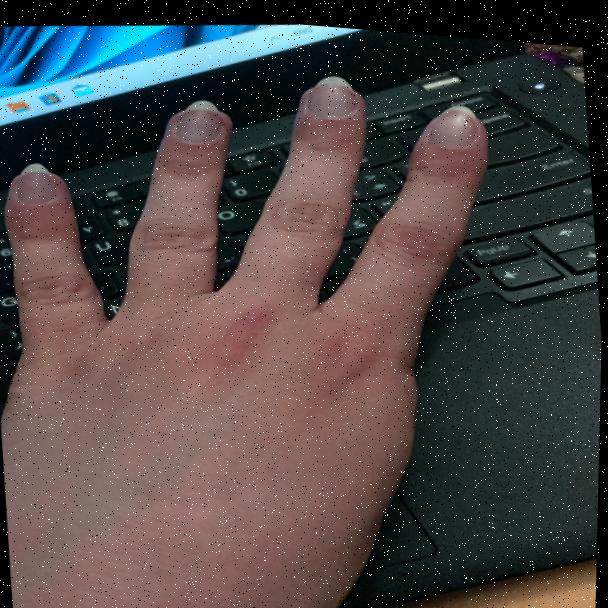four: (0, 31, 529, 608)
